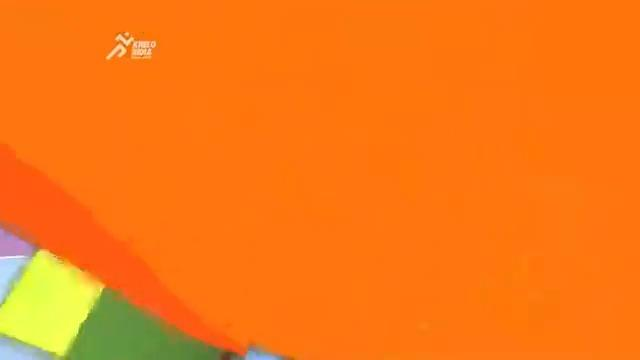Player: (1, 0, 638, 358), (104, 30, 134, 60)
referee: (0, 141, 291, 359), (218, 344, 292, 359)
